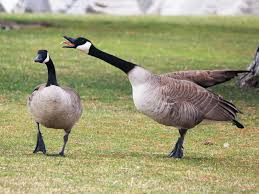goose: (60, 34, 253, 160), (27, 48, 86, 159)
